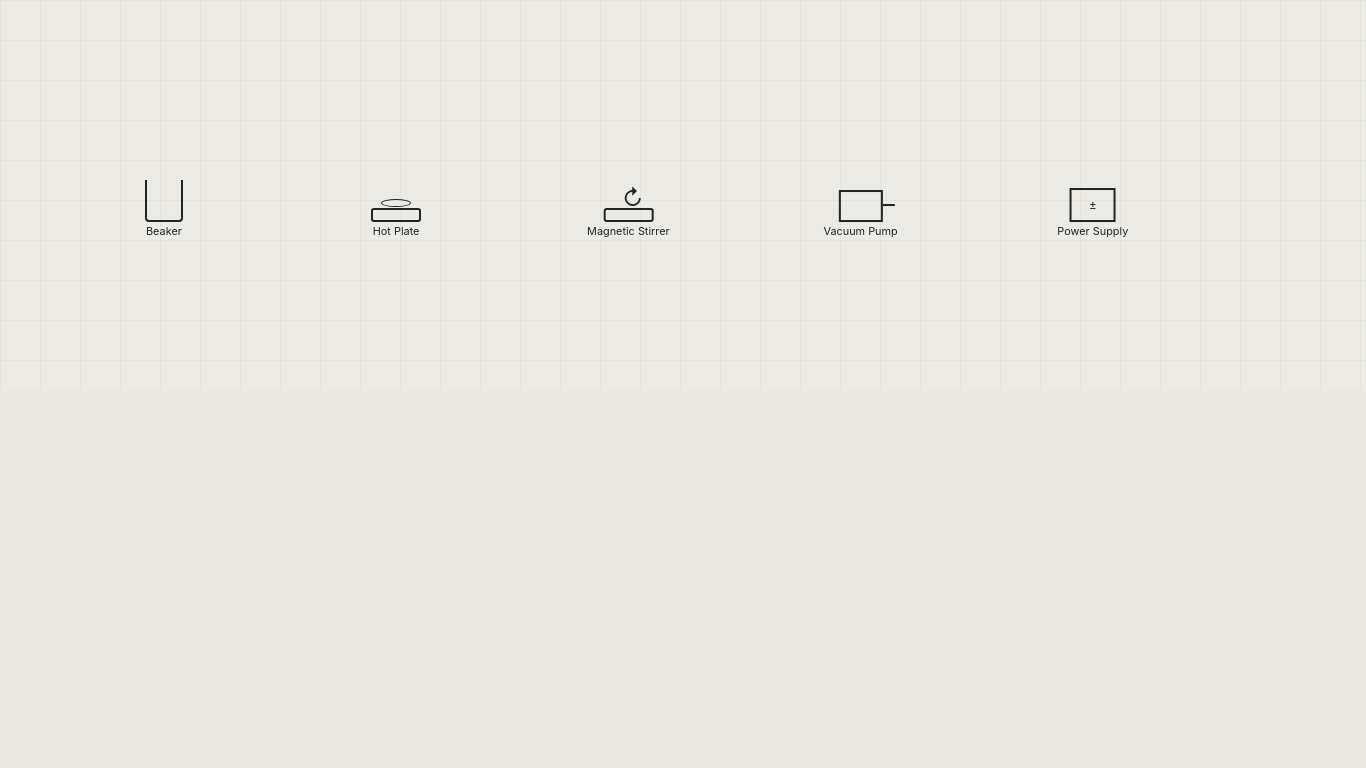
Test case: 05B placement composition and selection › uses the 05A placement surface and switches Device Inspector by selected apparatus
The image size is (1366, 768).
Expected: the element named "기구 배치 영역" is shown, [0,0,1365,390]
Click the button with aria-label "HOT_PLATE 기구 hot-plate-1": (396, 203) [364,168,428,238]
(page scrolled)
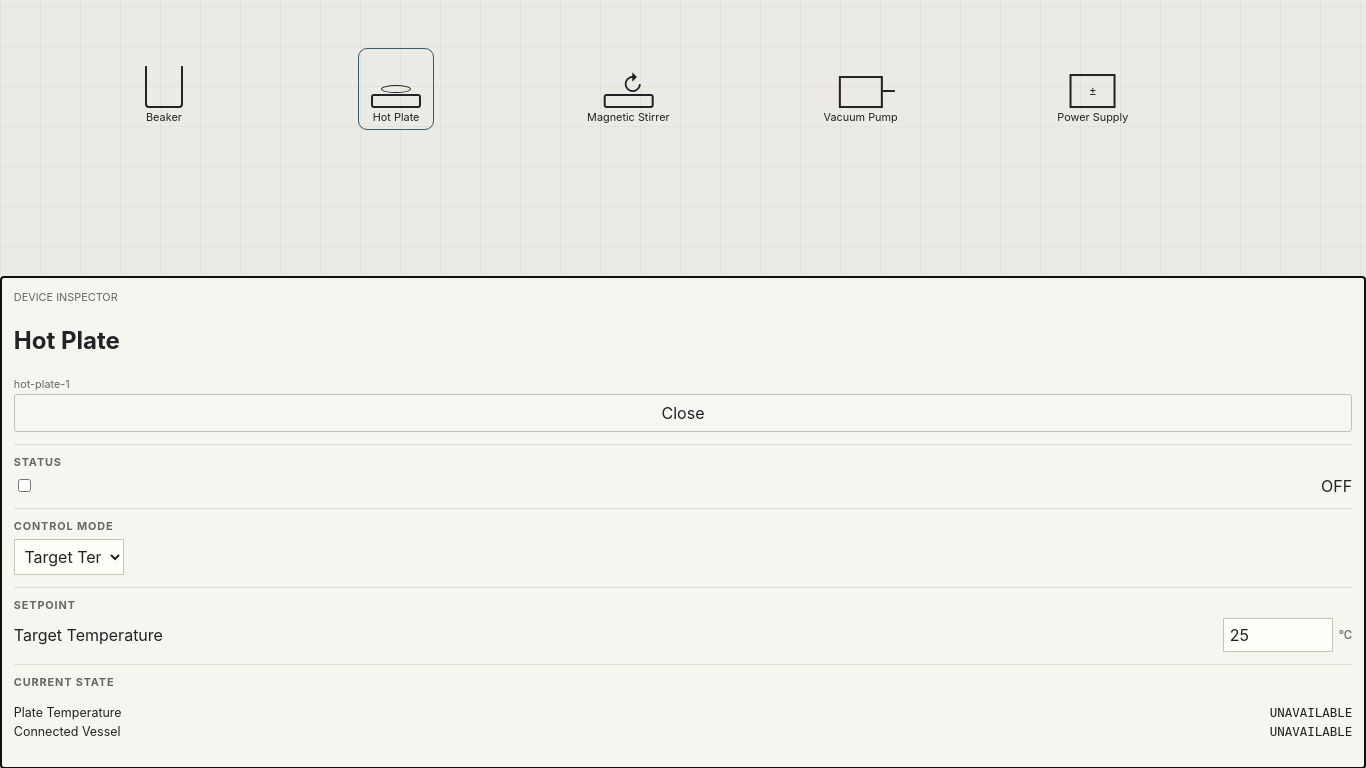
Result: the element "Hot Plate" is shown at [14,326,120,355]
Result: the number field labelled "Target Temperature" is shown at [1223,618,1333,652]
Click the button with aria-label "BEAKER 기구 beaker-1": (164, 89) [132,54,196,124]
(page scrolled)
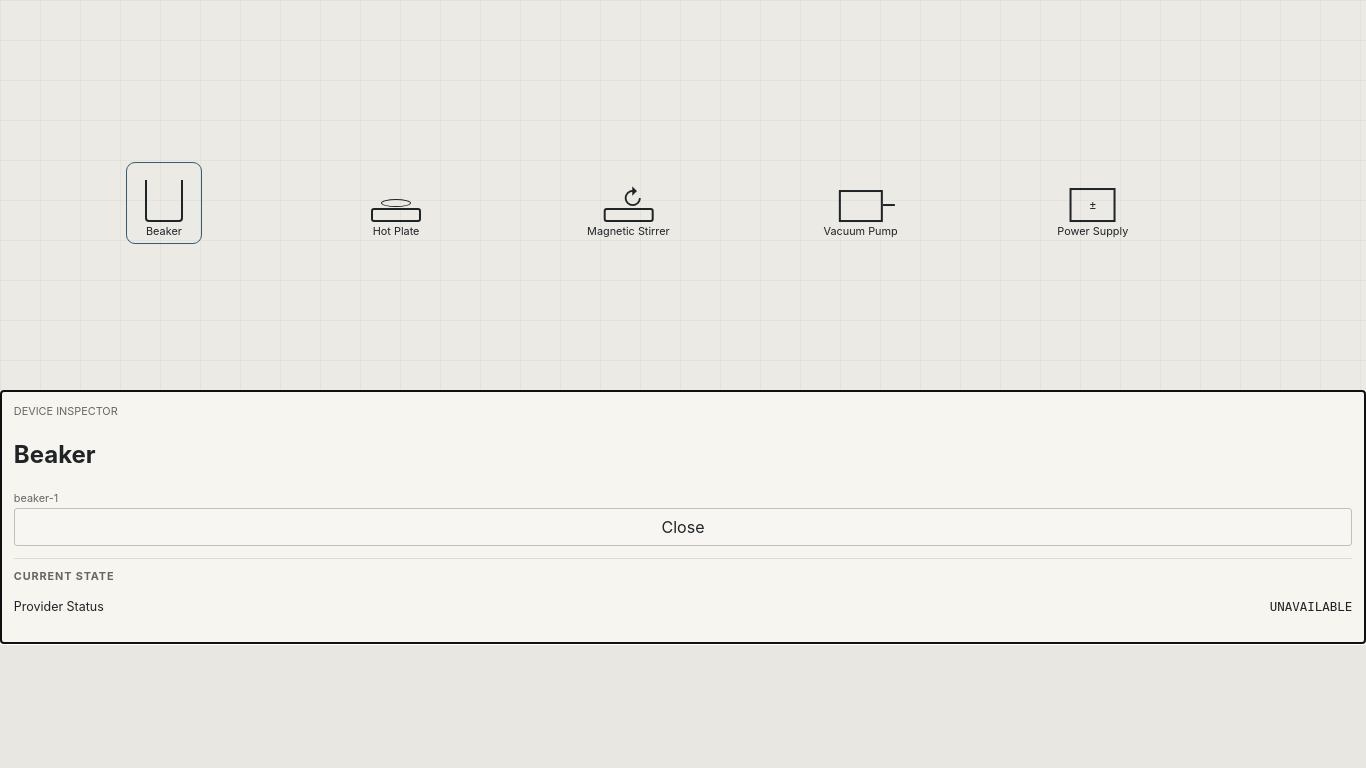
Result: the element "Beaker" is shown at [14,440,96,469]
Result: the text labelled "Target Temperature" is gone
